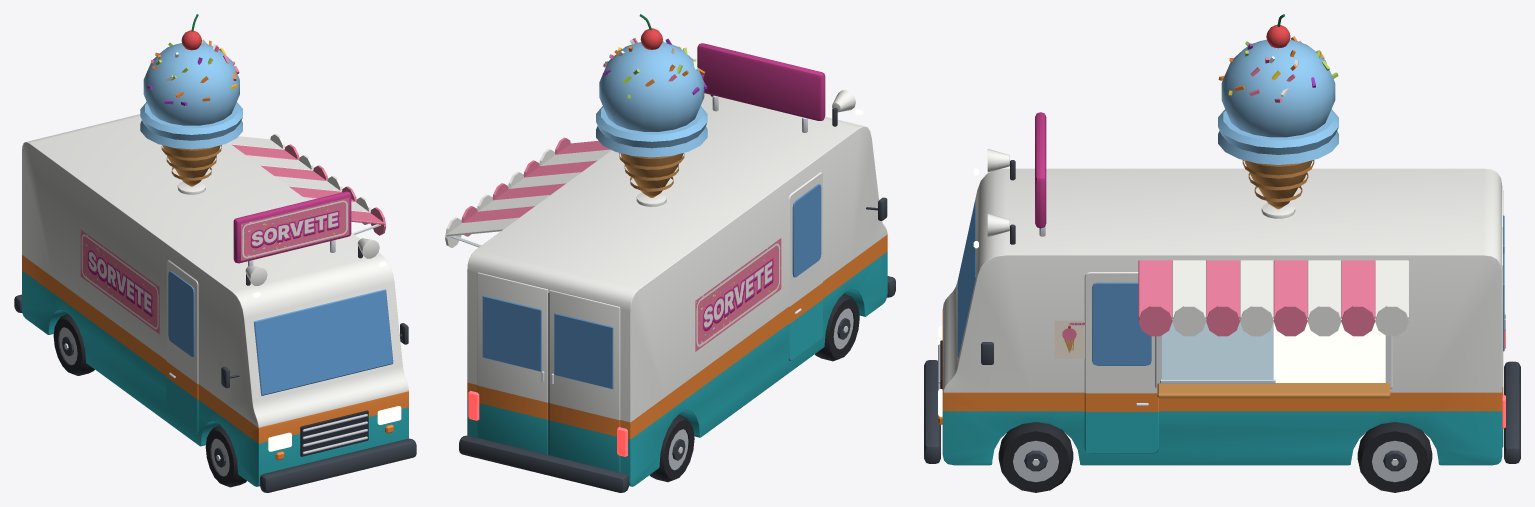
The model's file is food_truck_sorvete.glb.
3 views of the same model, side by side, from view 1: azimuth 30°, elevation 25°; view 2: azimuth 150°, elevation 25°; view 3: azimuth 270°, elevation 25° (orthographic). The views are drawn at different scales.
Parts seen in each view (by area): view 1: food_truck_sorvete, porta_1, roda_1, roda_2; view 2: food_truck_sorvete, porta_traseira_2, porta_traseira_1, porta_1, roda_2, roda_1; view 3: food_truck_sorvete, porta_2, janela_atendimento, roda_4, roda_3.
Boxes of the visible parts, bbox=[...] form: food_truck_sorvete: bbox=[14, 14, 416, 492]; porta_1: bbox=[166, 260, 198, 433]; roda_1: bbox=[205, 425, 246, 487]; roda_2: bbox=[53, 314, 94, 375]; food_truck_sorvete: bbox=[445, 14, 895, 492]; porta_traseira_2: bbox=[477, 272, 548, 454]; porta_traseira_1: bbox=[549, 290, 620, 472]; porta_1: bbox=[788, 172, 822, 360]; roda_2: bbox=[649, 414, 694, 482]; roda_1: bbox=[815, 294, 859, 361]; food_truck_sorvete: bbox=[924, 14, 1520, 465]; porta_2: bbox=[1084, 272, 1158, 453]; janela_atendimento: bbox=[1160, 318, 1275, 383]; roda_4: bbox=[1357, 422, 1432, 492]; roda_3: bbox=[998, 422, 1073, 492].
Bounding box in the file's own units: 3.32 × 5.24 × 6.4.
Materials: 8 (3 with a texture image).
